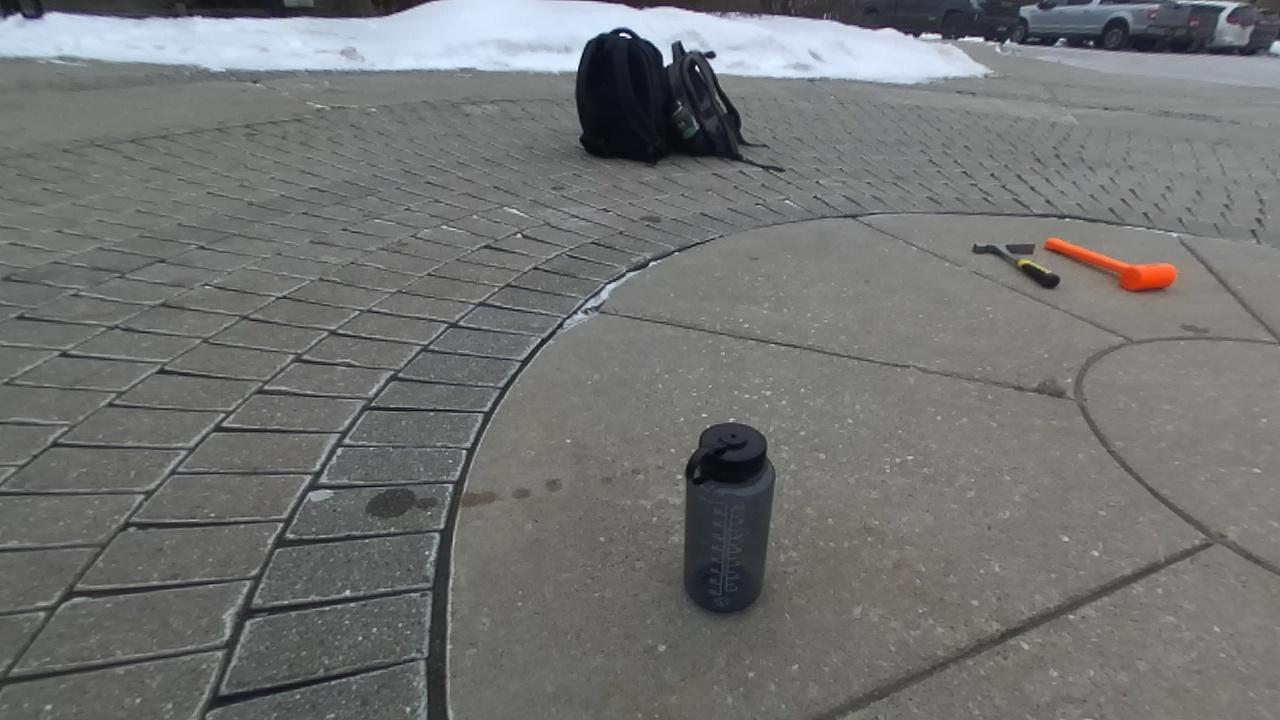bottle: (683, 422, 775, 611)
mallet: (1045, 238, 1177, 290)
pick: (973, 244, 1060, 288)
